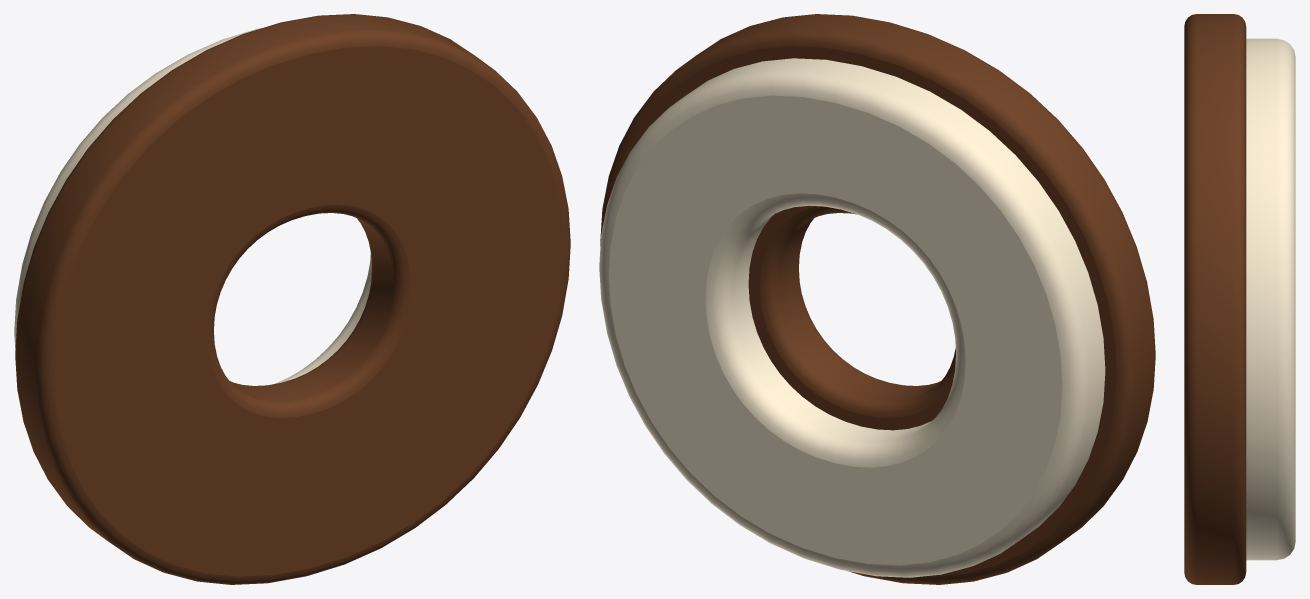
File: Letter_O.fbx
3 renders of one model, left to right at view 1: azimuth 30°, elevation 25°; view 2: azimuth 150°, elevation 25°; view 3: azimuth 270°, elevation 25°, orthographic. The views are drawn at different scales.
Visible parts, largest first — view 1: Letter_O; view 2: Letter_O; view 3: Letter_O.
Part boxes in pixels (x1=…): Letter_O: x1=14, y1=14, x2=570, y2=584; Letter_O: x1=599, y1=14, x2=1155, y2=584; Letter_O: x1=1184, y1=14, x2=1295, y2=584.
Size of the model in its own units: 0.9434 by 0.9104 by 0.18.
1 material, 1 textured.
